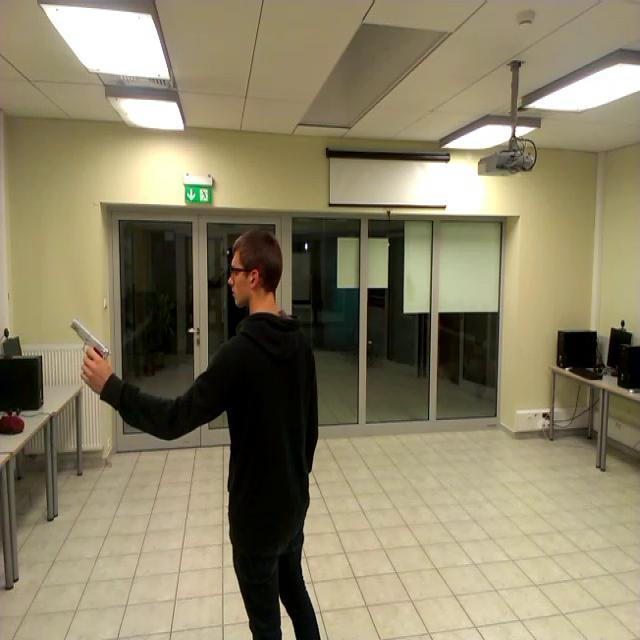Gun: (70, 317, 111, 379)
